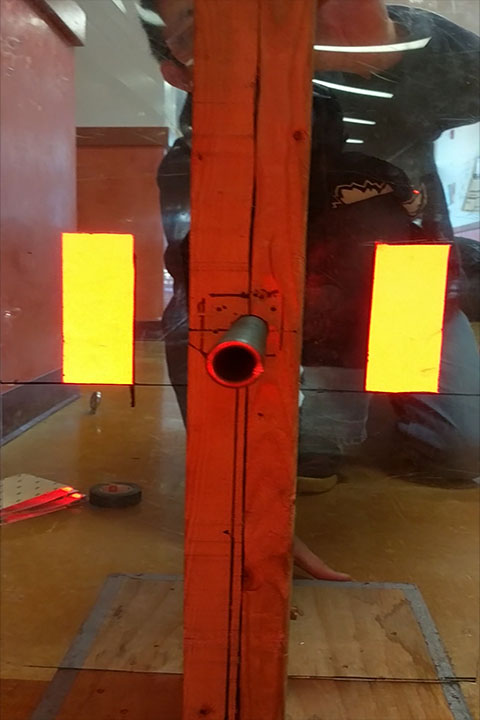gear: (365, 242, 452, 394), (61, 232, 135, 386)
